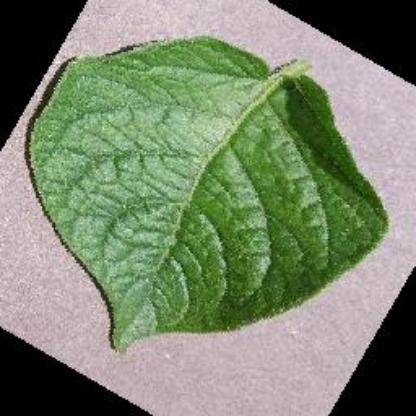Healthy-plant: (27, 35, 393, 354)
